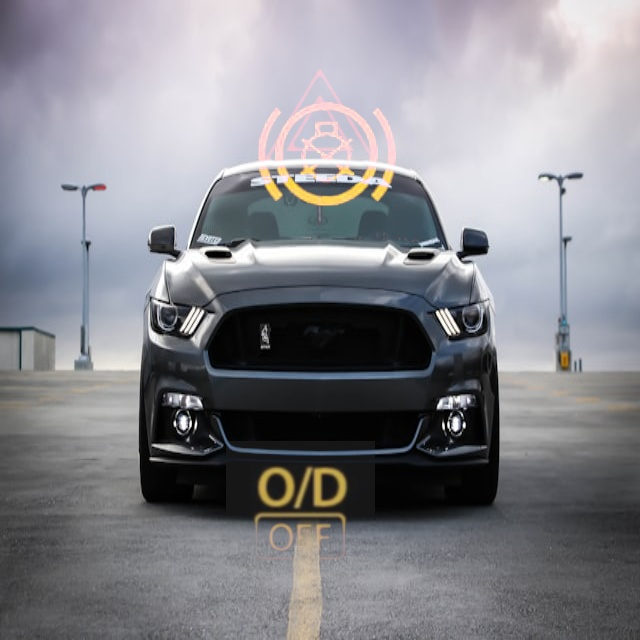symbol: (226, 55, 427, 256), (41, 99, 201, 259), (226, 441, 375, 590), (250, 45, 392, 187)
